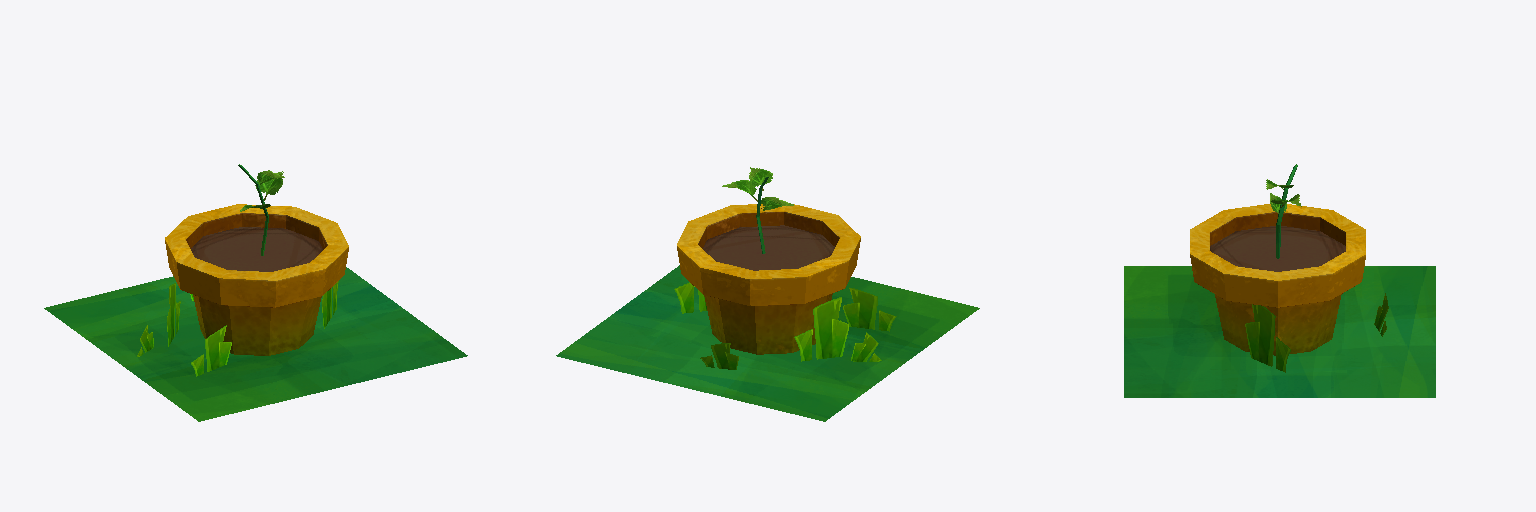
3 renders of one model, left to right at view 1: azimuth 30°, elevation 25°; view 2: azimuth 150°, elevation 25°; view 3: azimuth 270°, elevation 25°, orthographic.
Parts seen in each view (by area): view 1: Stylizedplants_model.006; view 2: Stylizedplants_model.006; view 3: Stylizedplants_model.006.
Boxes of the visible parts, x1,y1,x2,y2 form: Stylizedplants_model.006: [44, 164, 467, 421]; Stylizedplants_model.006: [556, 167, 979, 421]; Stylizedplants_model.006: [1124, 164, 1435, 397].
Bounding box in the file's own units: 45.19 × 28.03 × 45.19.
Materials: 1 (1 with a texture image).